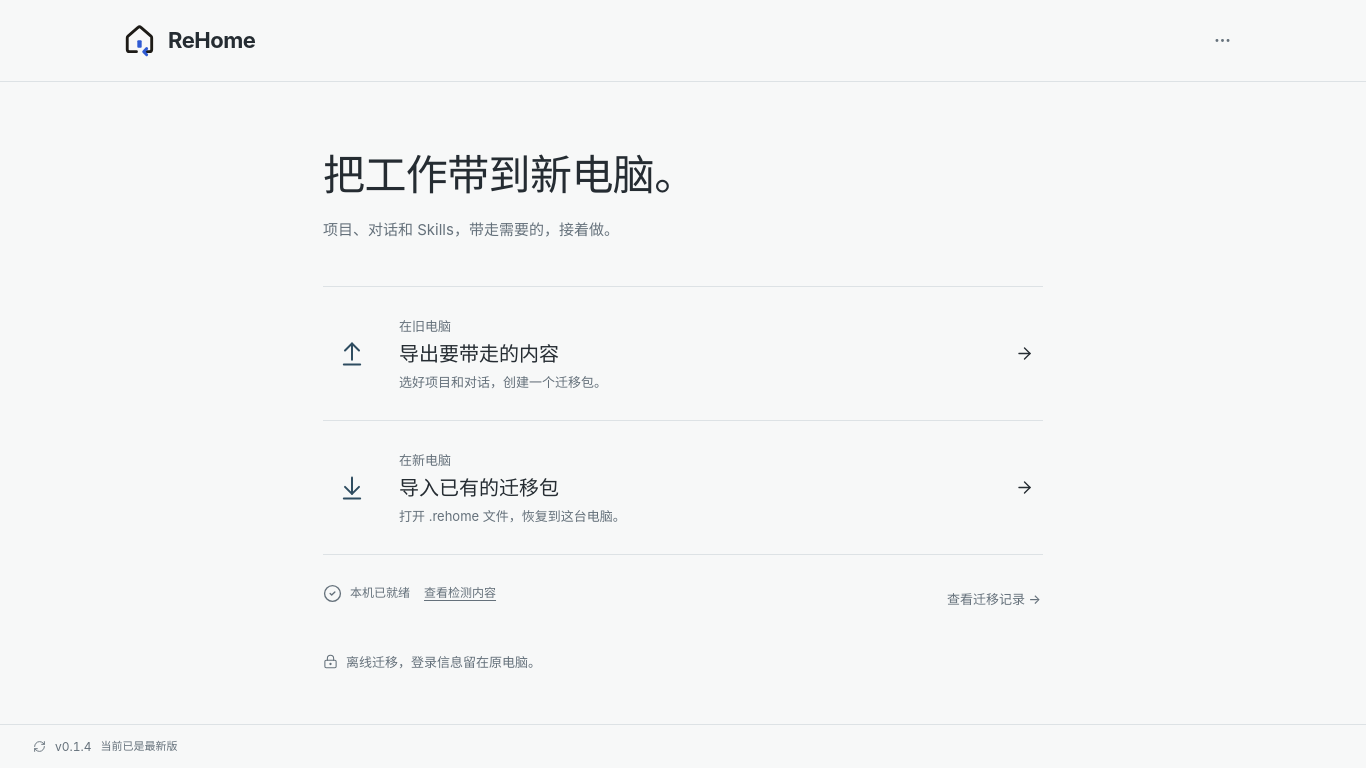
Test case: ReHome Desktop workflows › allows project files and conversations to be selected independently
The width and height of the screenshot is (1366, 768).
Click the button with aria-label "前往导出" at (425, 326), box [323, 288, 1043, 422]
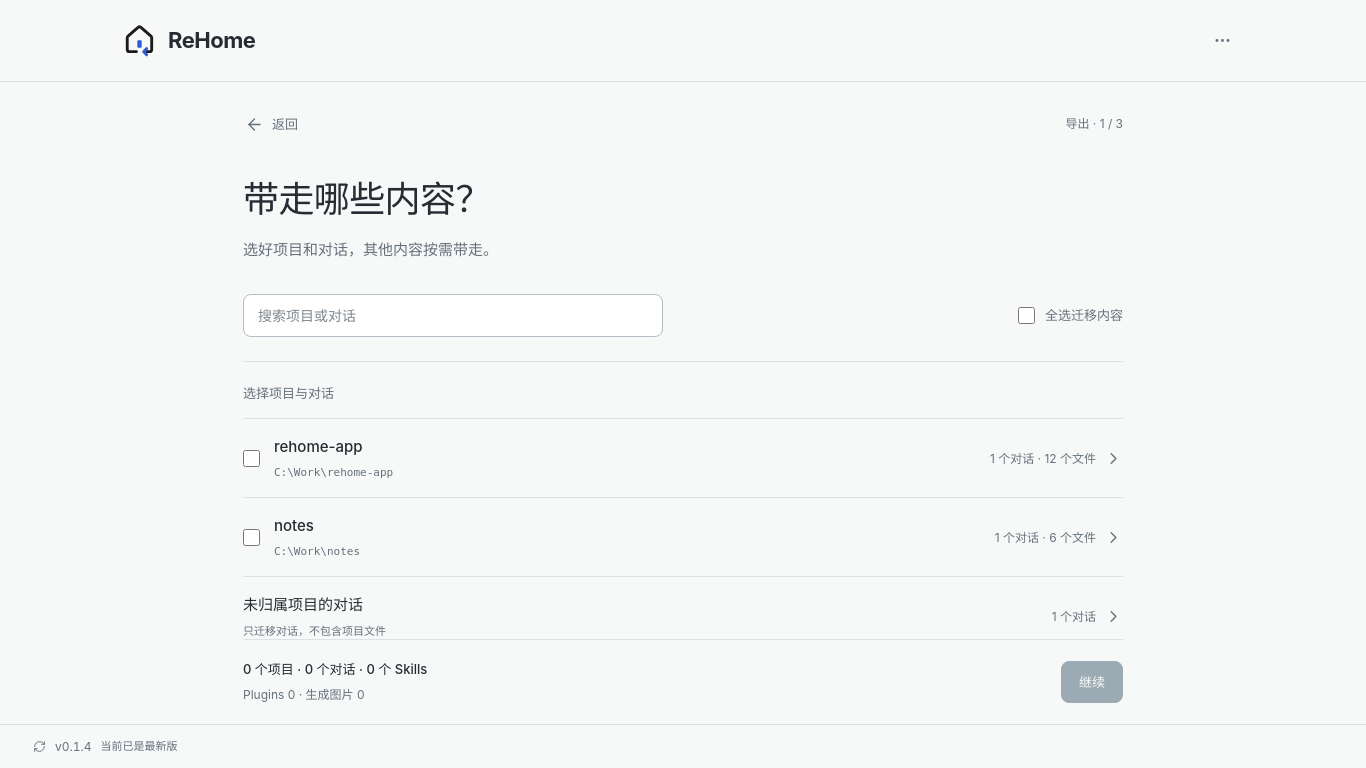
Result: the button "继续" is disabled at [1061, 661, 1123, 703]
Click the checkbox named "选择项目 rehome-app" at (252, 458), box [243, 450, 260, 467]
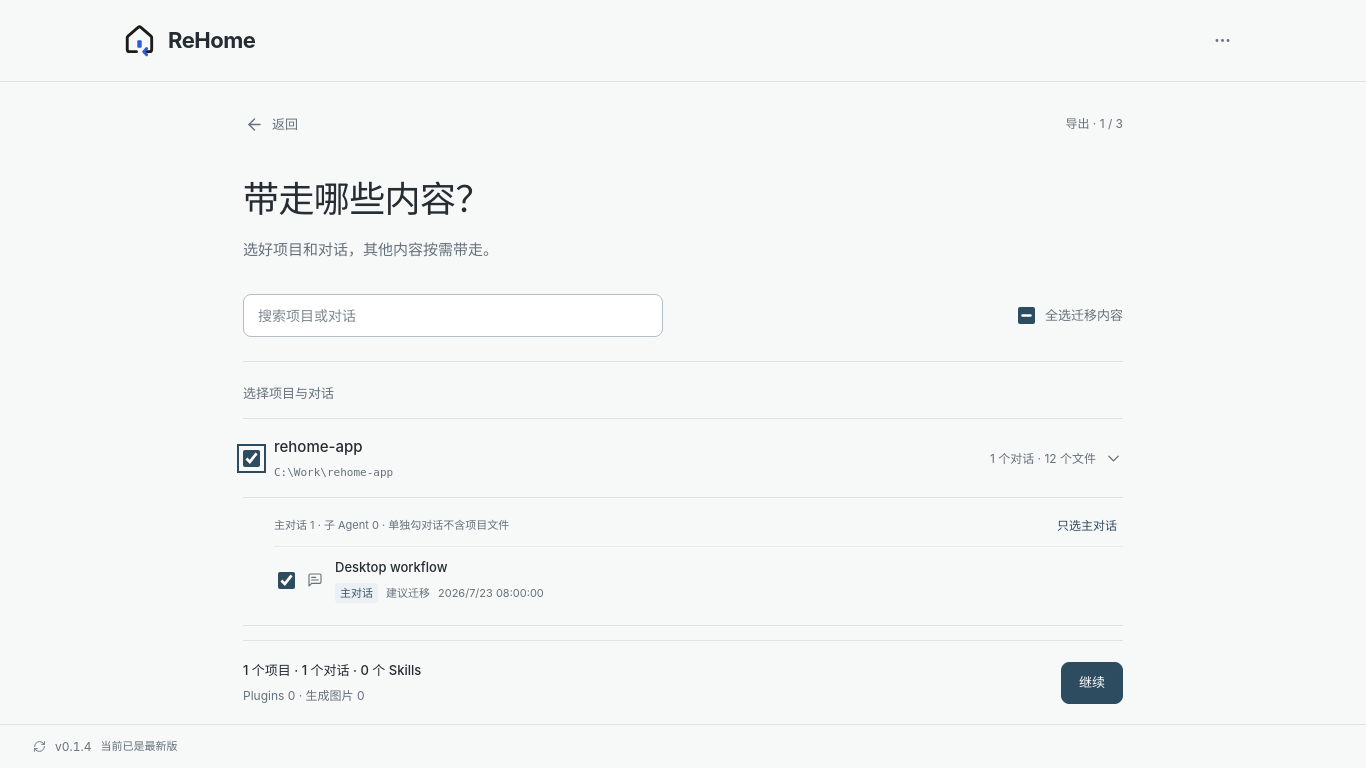
Result: the button "继续" is enabled at [1061, 661, 1123, 703]
Click the checkbox named "选择项目 rehome-app" at (252, 458), box [243, 450, 260, 467]
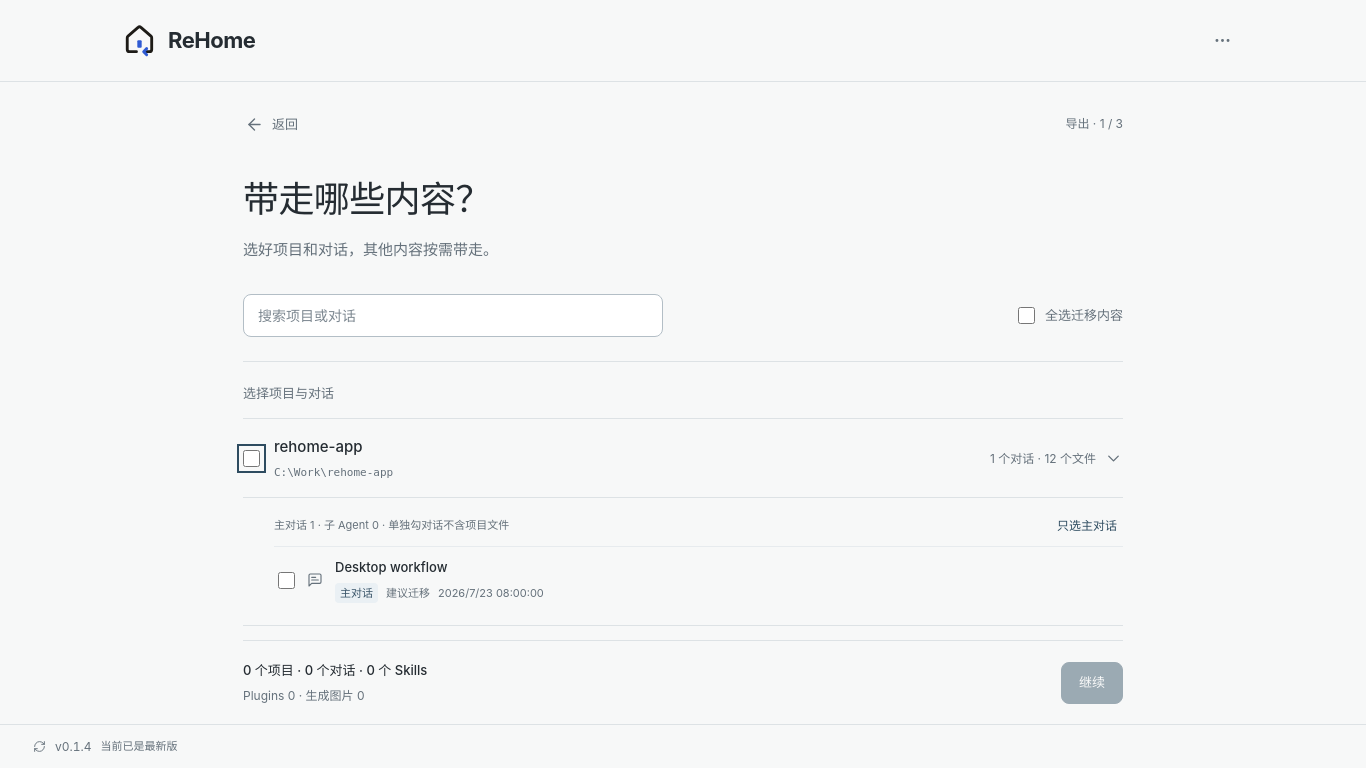
Result: the button "继续" is disabled at [1061, 661, 1123, 703]
Click the checkbox named "选择对话 Desktop workflow" at (286, 580), box [278, 572, 295, 589]
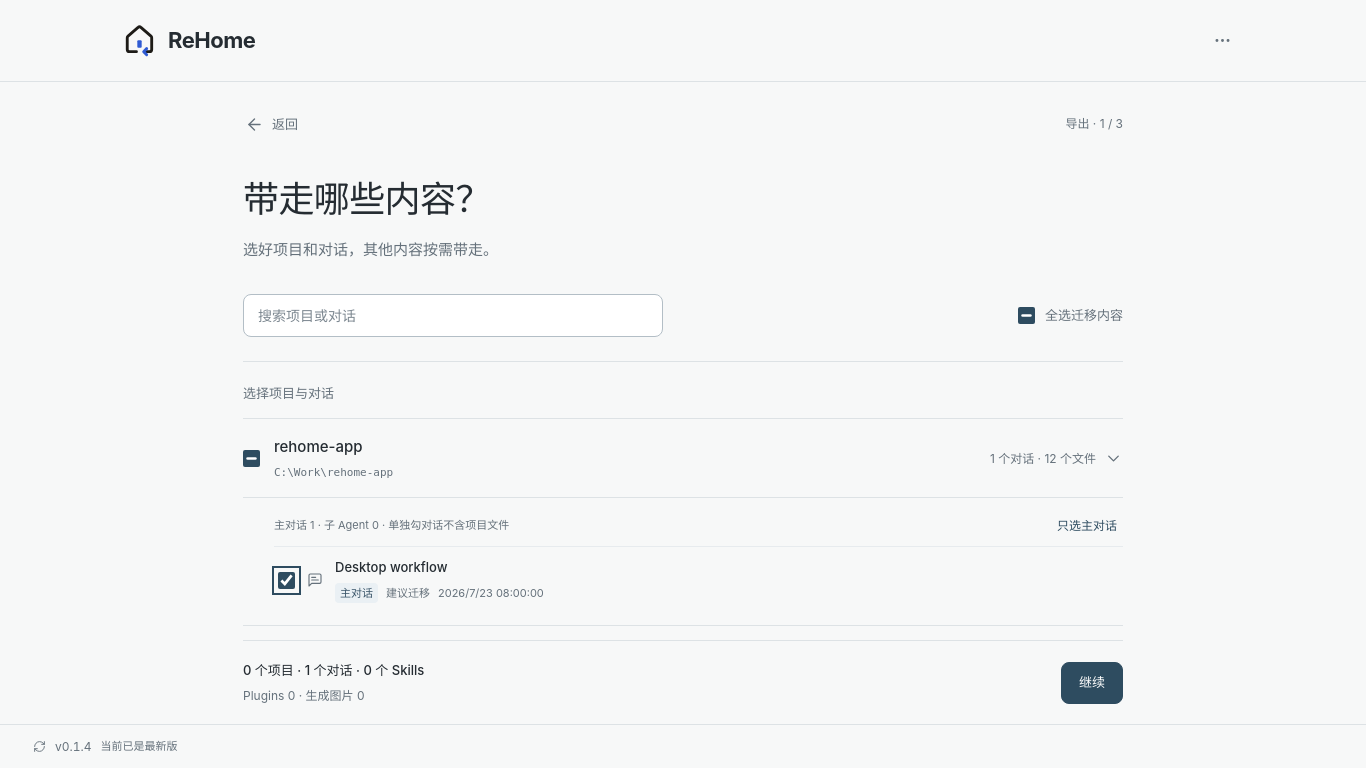
Result: the button "继续" is enabled at [1061, 661, 1123, 703]
